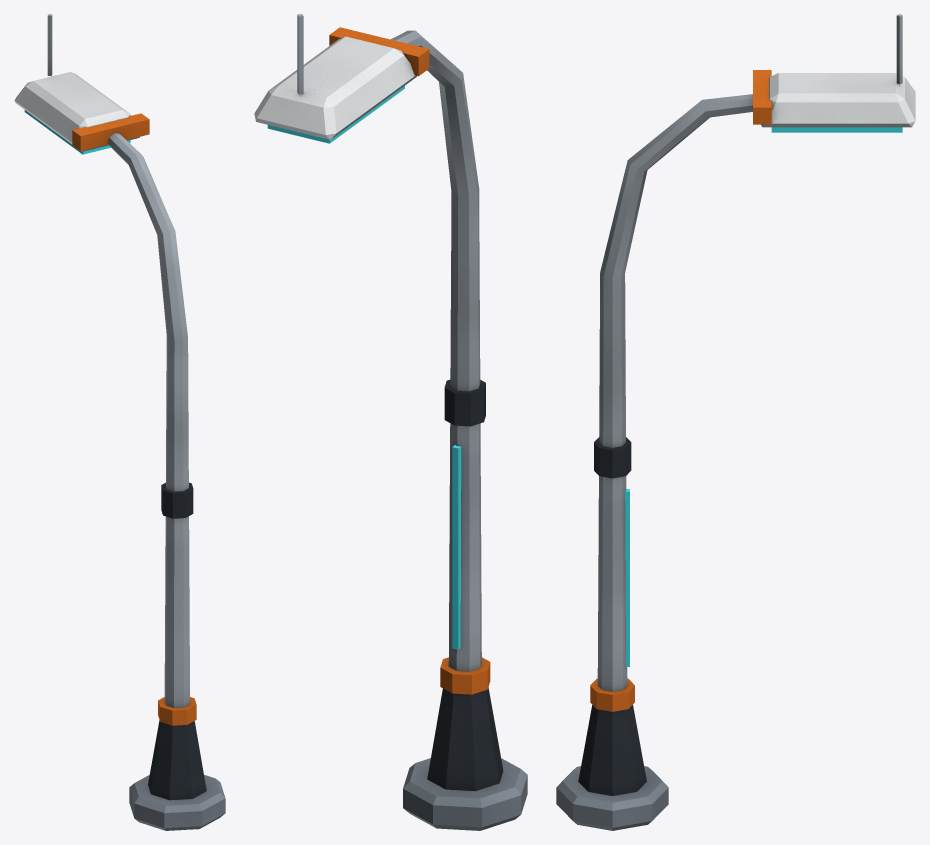
File: farola_humana.fbx
3 views of the same model, side by side, from view 1: azimuth 30°, elevation 25°; view 2: azimuth 150°, elevation 25°; view 3: azimuth 270°, elevation 25° (orthographic). The views are drawn at different scales.
Parts seen in each view (by area): view 1: farola_humana; view 2: farola_humana, farola_humana_neon; view 3: farola_humana, farola_humana_neon.
Part boxes in pixels (x1,y1,x2,y2): farola_humana: (14,14,225,830); farola_humana: (254,14,527,830); farola_humana_neon: (267,86,461,649); farola_humana: (556,14,915,830); farola_humana_neon: (625,127,902,666).
Bounding box in the file's own units: 1.8 × 14.05 × 5.75.
Materials: 2 (2 with a texture image).
